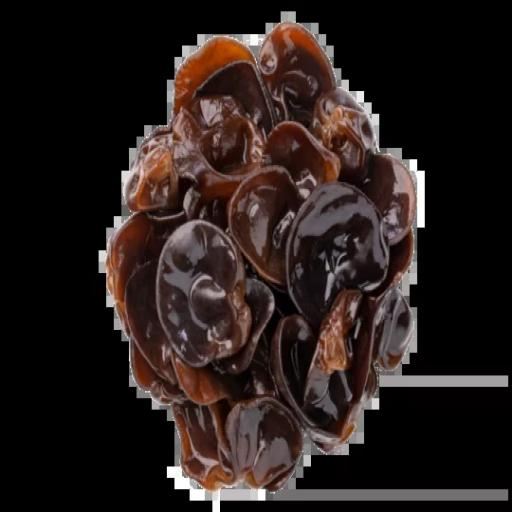Wood Ear Mushroom: (104, 21, 421, 500)
